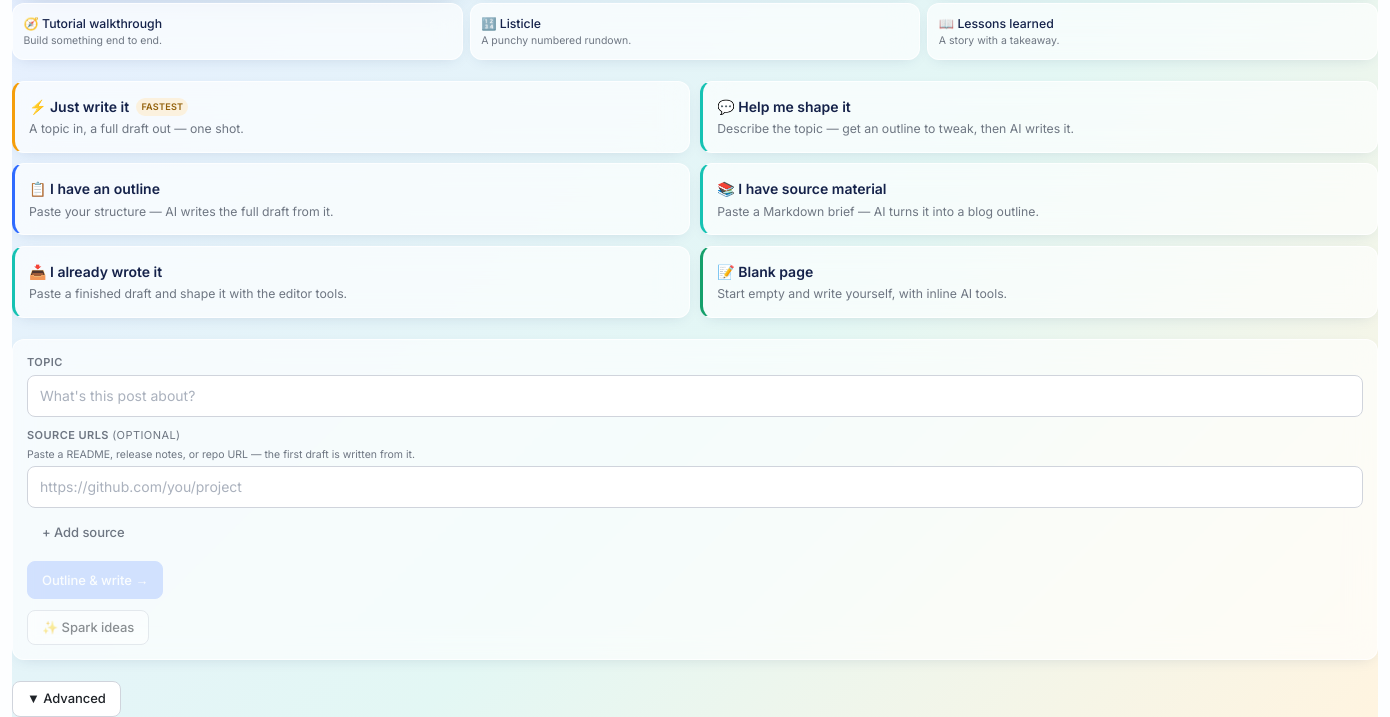
Test: ComposeStudio › keeps an unavailable explicit server preference instead of availability auto-picking
(page scrolled)
Click the button "▼ Advanced" at (66, 699), box [12, 681, 121, 716]
(page scrolled)
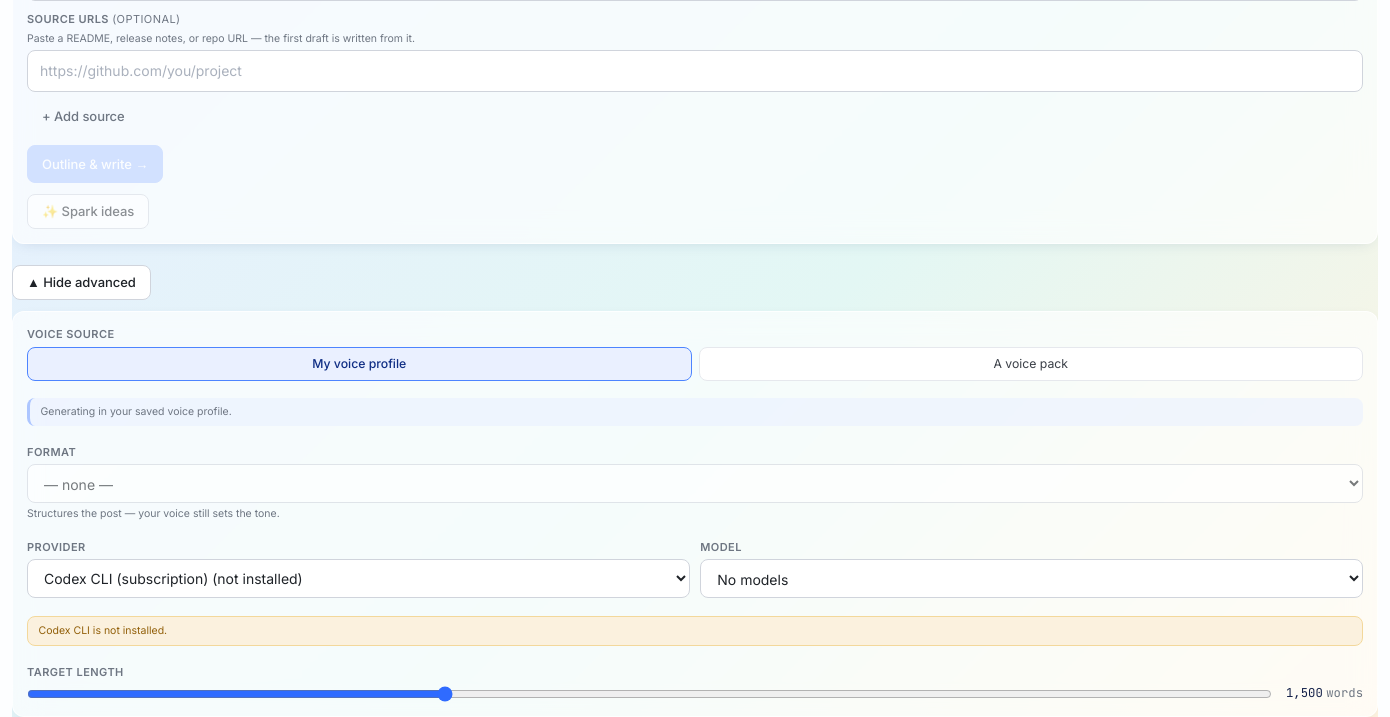
Expected: the text "Codex CLI is not installed." is shown, [27, 616, 1363, 646]
Expected: the dropdown labelled "Provider" shows "Codex CLI (subscription) (not installed)", [27, 559, 690, 598]
